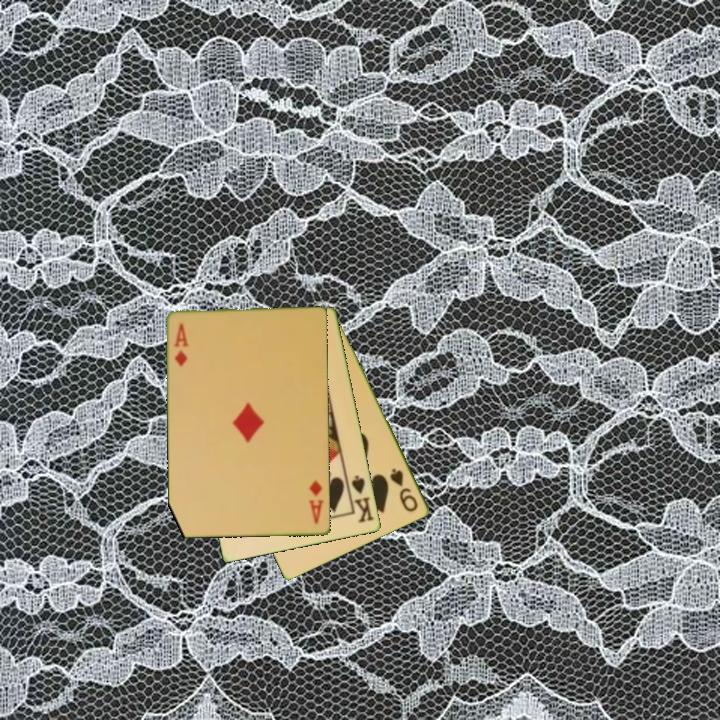9s: (387, 465, 421, 515)
Ad: (306, 477, 327, 527), (171, 320, 192, 369)
Ks: (344, 472, 377, 526)
